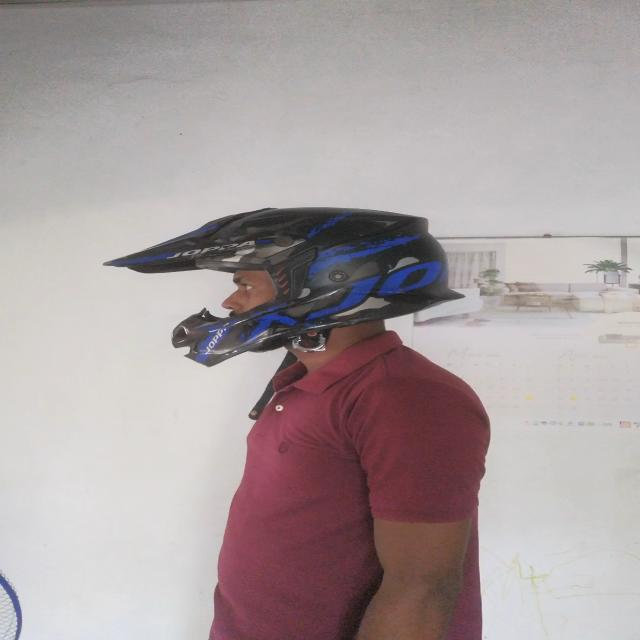Helmet_Wearer: (98, 198, 476, 378)
Person: (197, 183, 495, 640)
